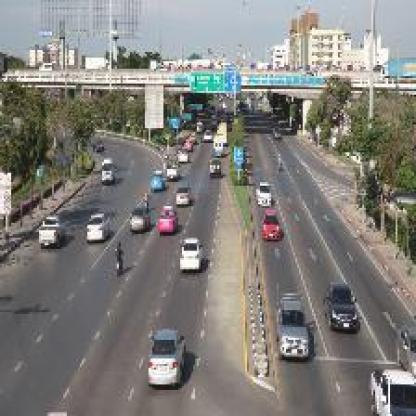other: (252, 205, 285, 241)
